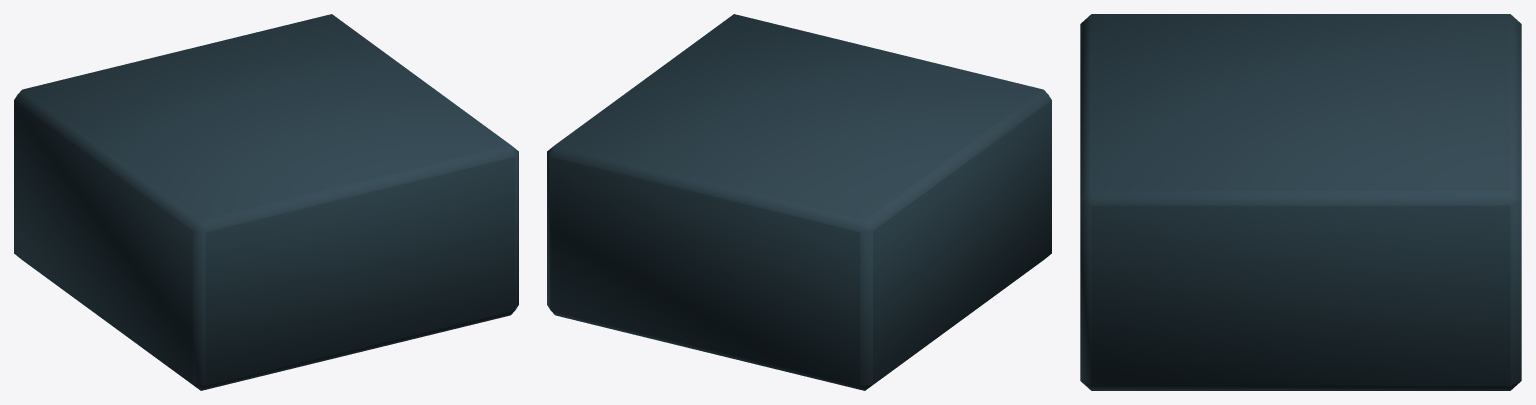
The model's file is cube_06_hue_5.fbx.
3 renders of one model, left to right at view 1: azimuth 30°, elevation 25°; view 2: azimuth 150°, elevation 25°; view 3: azimuth 270°, elevation 25°, orthographic. The views are drawn at different scales.
Parts seen in each view (by area): view 1: cube_06_hue_5; view 2: cube_06_hue_5; view 3: cube_06_hue_5.
Boxes of the visible parts, x1,y1,x2,y2 form: cube_06_hue_5: (14,14,518,390); cube_06_hue_5: (547,14,1051,390); cube_06_hue_5: (1080,14,1521,390).
Size of the model in its own units: 200 by 100 by 200.
